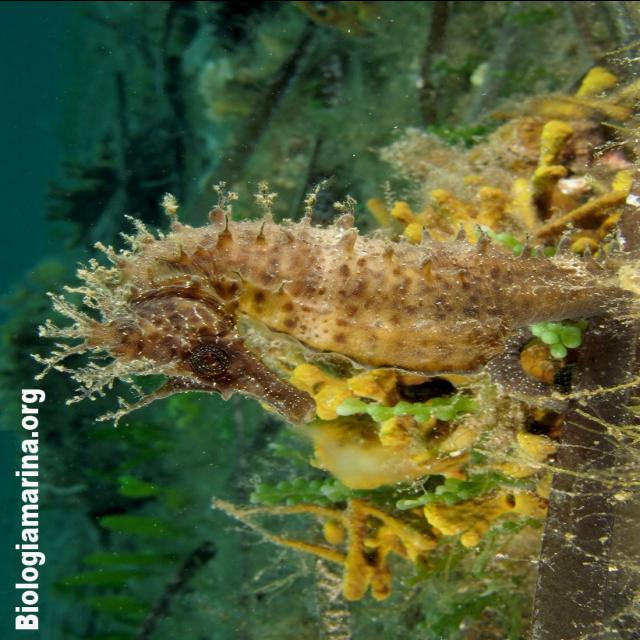Guttu: (74, 283, 334, 428)
